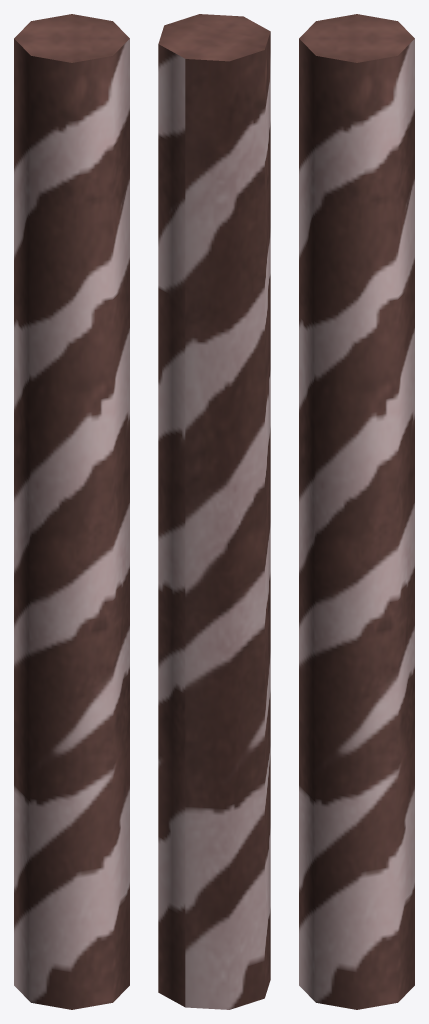
Rendered from scenes_candy_roll01.FBX.
3 renders of one model, left to right at view 1: azimuth 90°, elevation 25°; view 2: azimuth 150°, elevation 25°; view 3: azimuth 270°, elevation 25°, orthographic.
Visible parts, largest first — view 1: scenes_candy_roll01; view 2: scenes_candy_roll01; view 3: scenes_candy_roll01.
Boxes of the visible parts, x1=… form: scenes_candy_roll01: x1=14, y1=14, x2=129, y2=1009; scenes_candy_roll01: x1=158, y1=14, x2=270, y2=1009; scenes_candy_roll01: x1=299, y1=14, x2=414, y2=1009.
Bounding box in the file's own units: 40.18 × 362 × 40.18.
